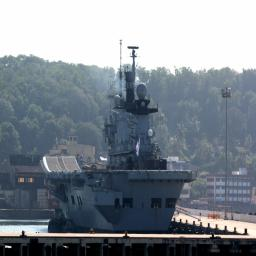Portanaves: (39, 39, 200, 235)
